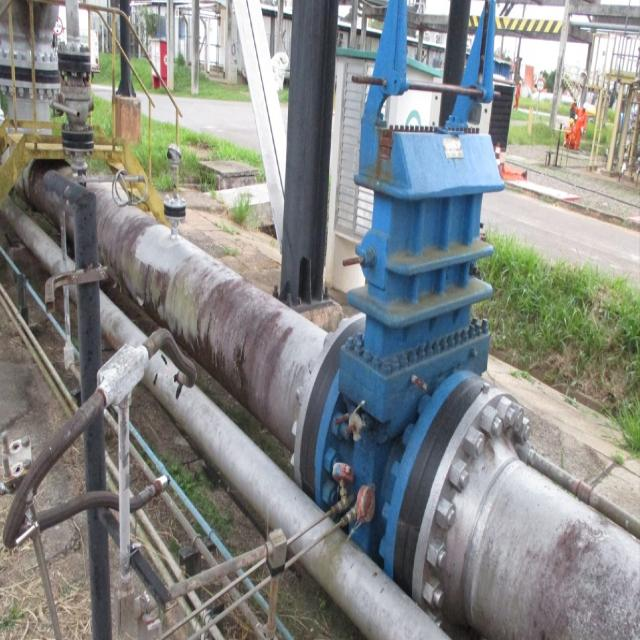gas: (35, 158, 640, 640), (9, 197, 444, 638)
